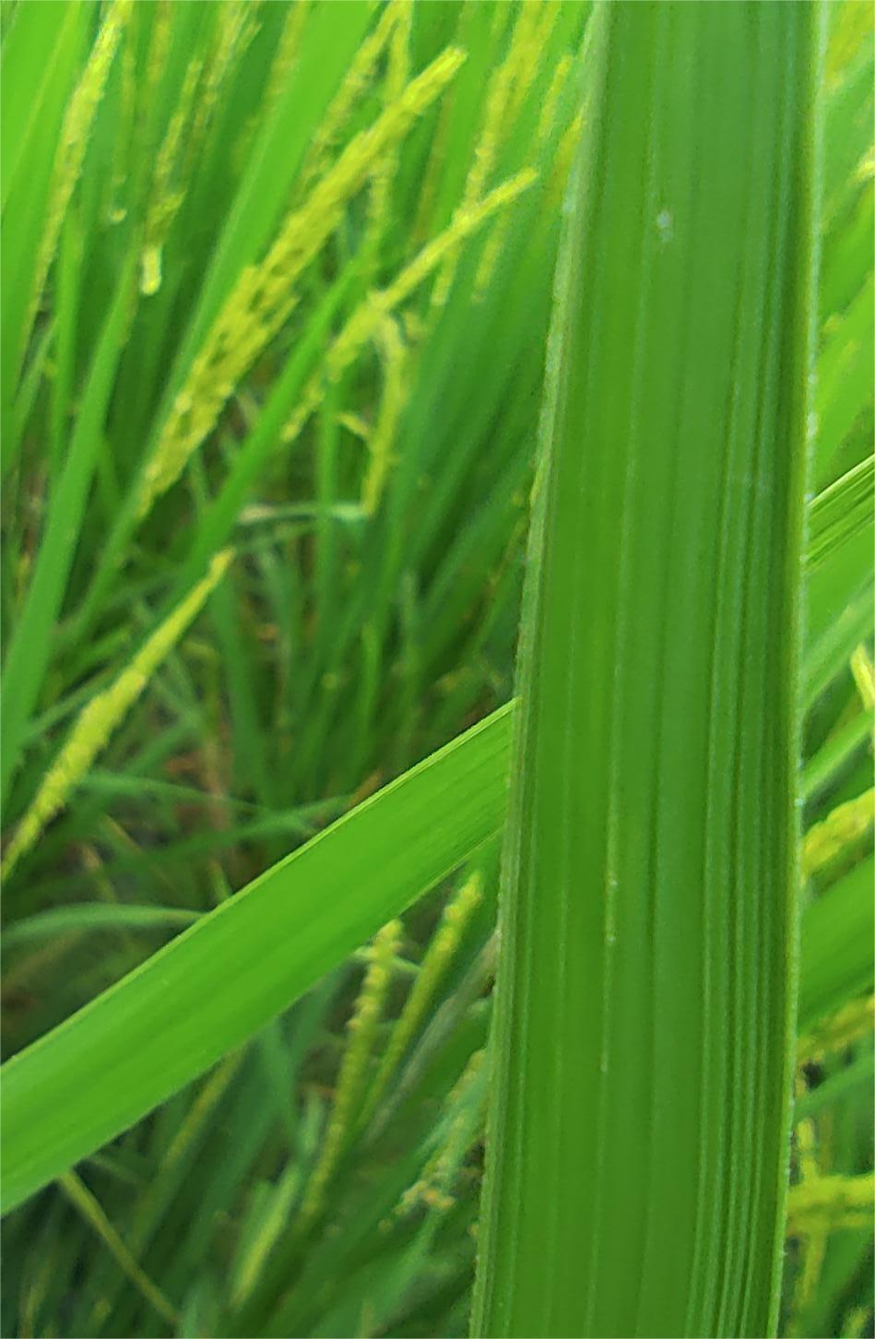Healthy: (471, 1, 820, 1338)
